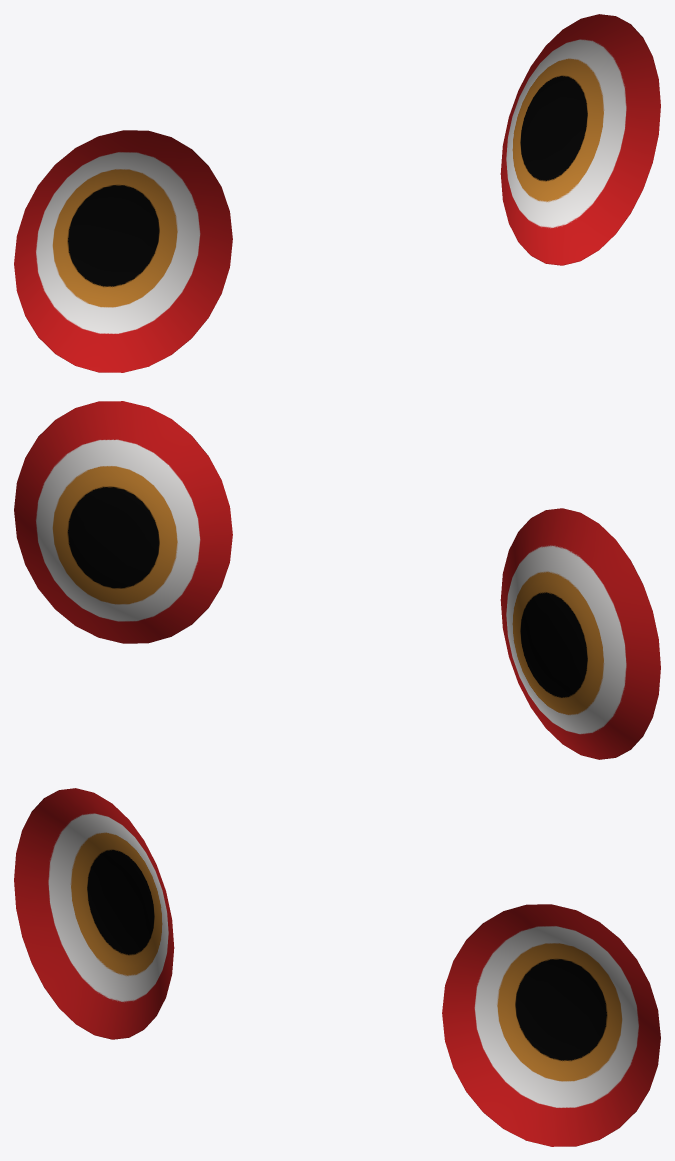
File: FxMesh_LH_eye_1.fbx
3 renders of one model, top to bottom at view 1: azimuth 30°, elevation 25°; view 2: azimuth 150°, elevation 25°; view 3: azimuth 330°, elevation 25°, orthographic.
Parts seen in each view (by area): view 1: FxMesh_LH_eye_1; view 2: FxMesh_LH_eye_1; view 3: FxMesh_LH_eye_1.
Part boxes in pixels (x1,y1,x2,y2): FxMesh_LH_eye_1: (14, 14, 660, 372); FxMesh_LH_eye_1: (14, 401, 660, 759); FxMesh_LH_eye_1: (14, 788, 660, 1146).
Size of the model in its own units: 231 by 82.6 by 24.44.
1 material, 1 textured.
